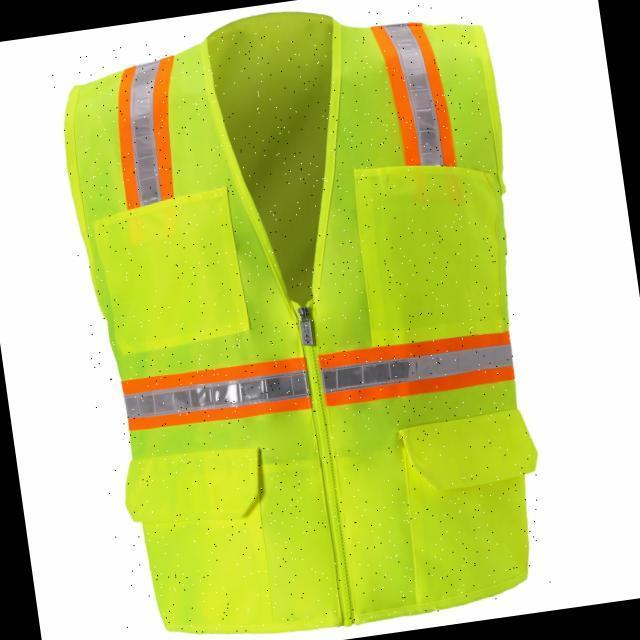vest: (46, 0, 555, 640)
